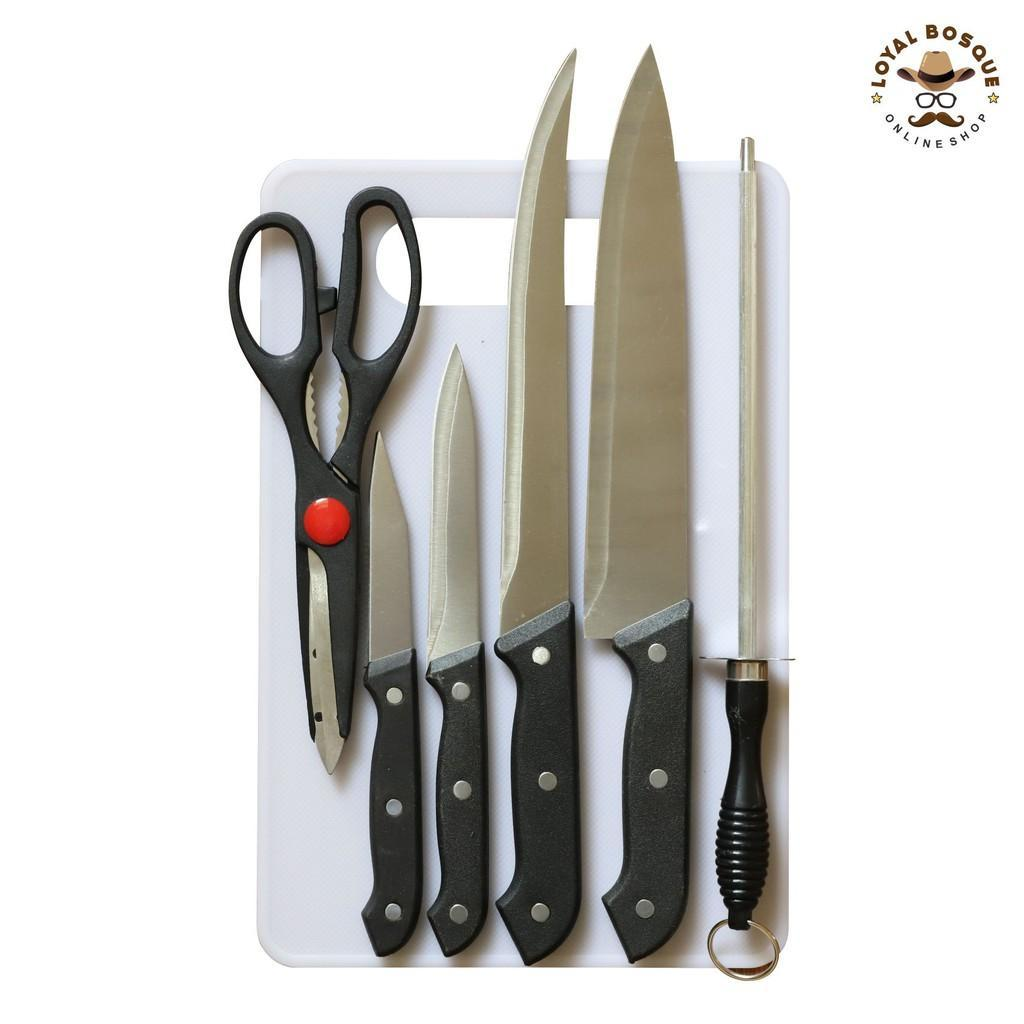faca: (585, 50, 692, 962), (494, 52, 580, 964), (426, 348, 488, 956), (357, 430, 422, 956)
tesoura: (229, 187, 421, 771)
